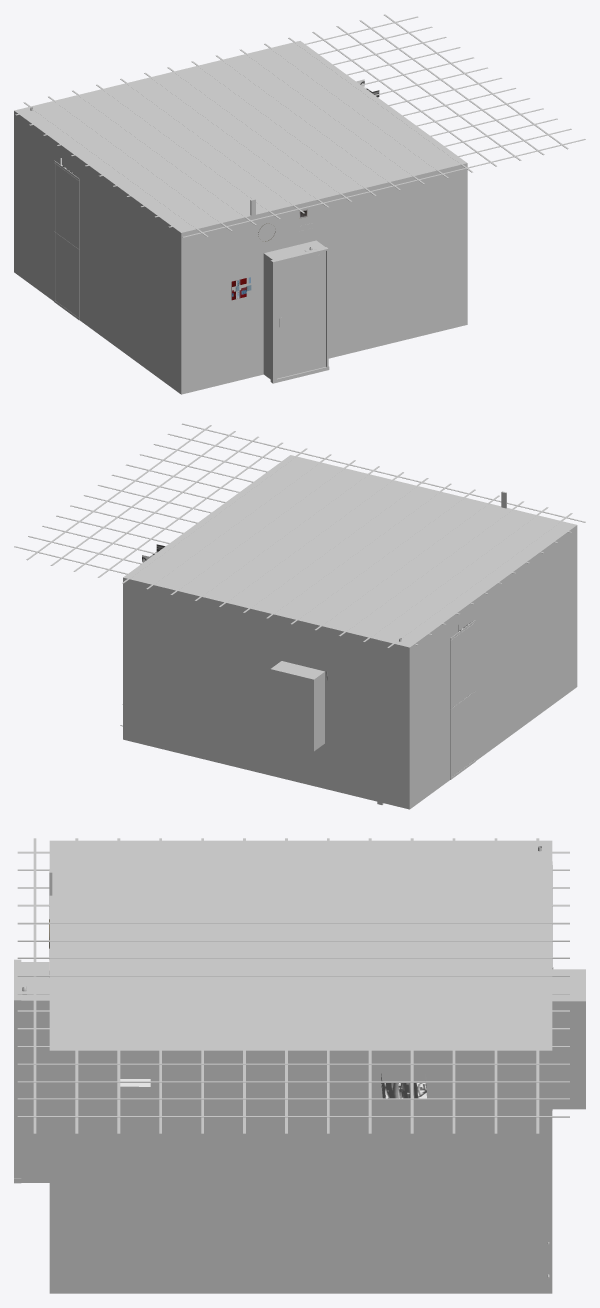
File: uvk_walls2.fbx
3 renders of one model, top to bottom at view 1: azimuth 30°, elevation 25°; view 2: azimuth 150°, elevation 25°; view 3: azimuth 270°, elevation 25°, orthographic. The views are drawn at different scales.
Visible parts, largest first — view 1: UVK, Box622, Box621, Box521, Box525, Box531; view 2: UVK, Box622, Box621, Box521, Box528; view 3: UVK, Box622, Box621, Box525.
Part boxes in pixels (x1=…): UVK: x1=14, y1=41, x2=467, y2=394; Box622: x1=216, y1=14, x2=585, y2=190; Box621: x1=15, y1=61, x2=376, y2=237; Box521: x1=54, y1=160, x2=79, y2=319; Box525: x1=270, y1=247, x2=329, y2=383; Box531: x1=250, y1=199, x2=255, y2=319; UVK: x1=120, y1=455, x2=577, y2=809; Box622: x1=14, y1=423, x2=392, y2=601; Box621: x1=219, y1=472, x2=585, y2=648; Box521: x1=450, y1=620, x2=475, y2=779; Box528: x1=377, y1=640, x2=383, y2=804; UVK: x1=21, y1=840, x2=585, y2=1293; Box622: x1=17, y1=979, x2=569, y2=1133; Box621: x1=17, y1=838, x2=569, y2=979; Box525: x1=14, y1=959, x2=21, y2=1183.
Size of the model in its own units: 0.3284 by 0.1397 by 0.2687.
